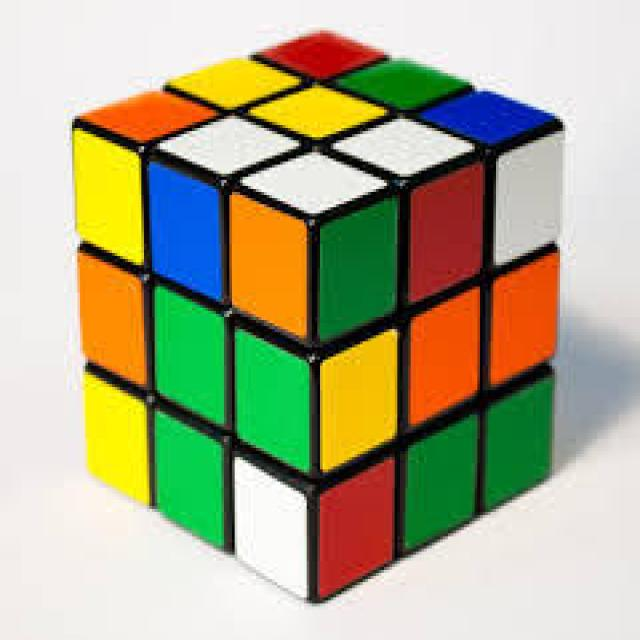Cubo-No-resuelto: (75, 34, 563, 597)
